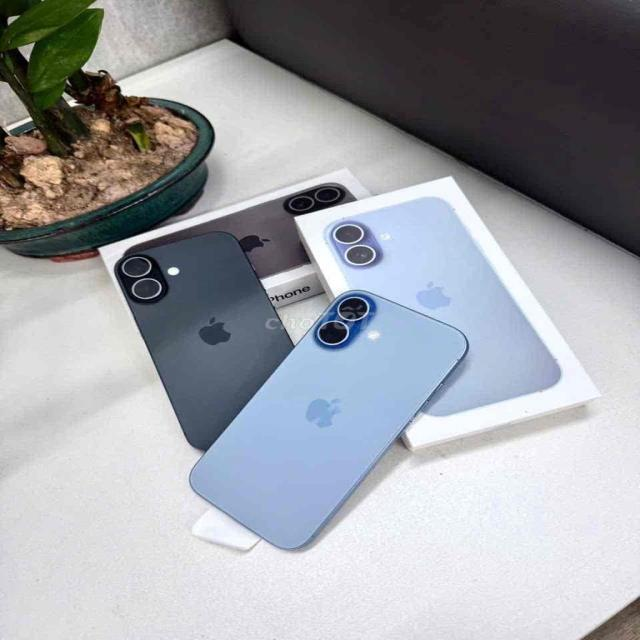gen_17: (190, 289, 468, 549)
